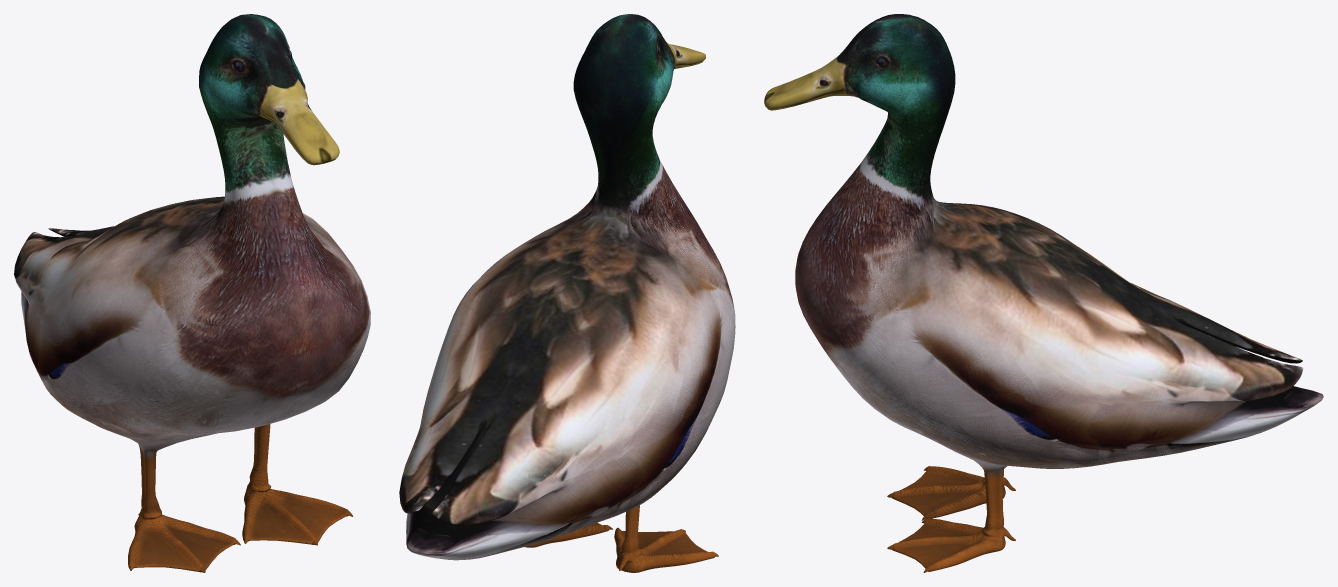
3 renders of one model, left to right at view 1: azimuth 30°, elevation 25°; view 2: azimuth 150°, elevation 25°; view 3: azimuth 270°, elevation 25°, orthographic. The views are drawn at different scales.
Visible parts, largest first — view 1: 12248_Bird_v1_L2; view 2: 12248_Bird_v1_L2; view 3: 12248_Bird_v1_L2.
Boxes of the visible parts, x1,y1,x2,y2 form: 12248_Bird_v1_L2: (14,14,370,572); 12248_Bird_v1_L2: (399,14,735,572); 12248_Bird_v1_L2: (764,14,1323,572).
Size of the model in its own units: 28.45 by 56.47 by 56.51.
1 material, 1 textured.
